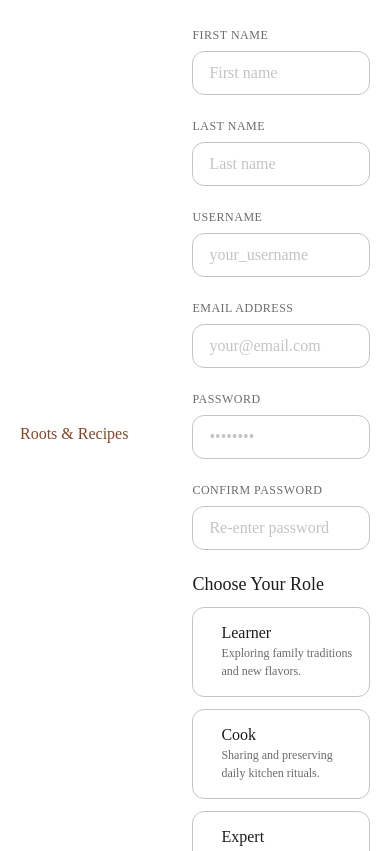
Scenario: RegisterScreen › validation › shows email validation error for invalid email
This screenshot has width=390, height=851.
Type "not-an-email" into the field with placeholder "your@email.com" at (281, 346), box left=192, top=324, right=370, bottom=368
(page scrolled)
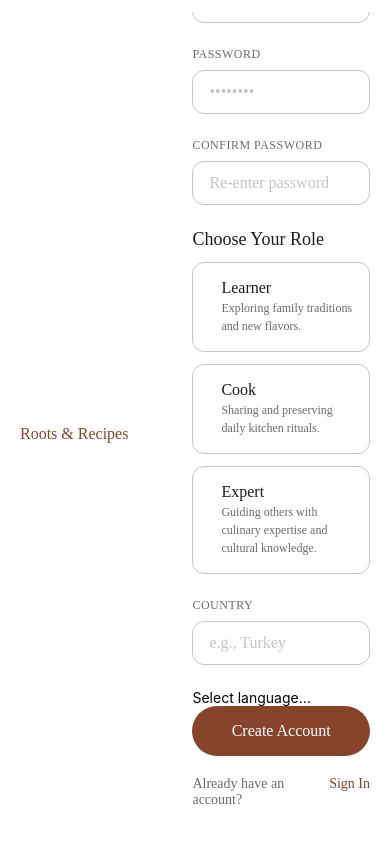
Click the text "Create Account" at (281, 731), box left=232, top=722, right=331, bottom=740
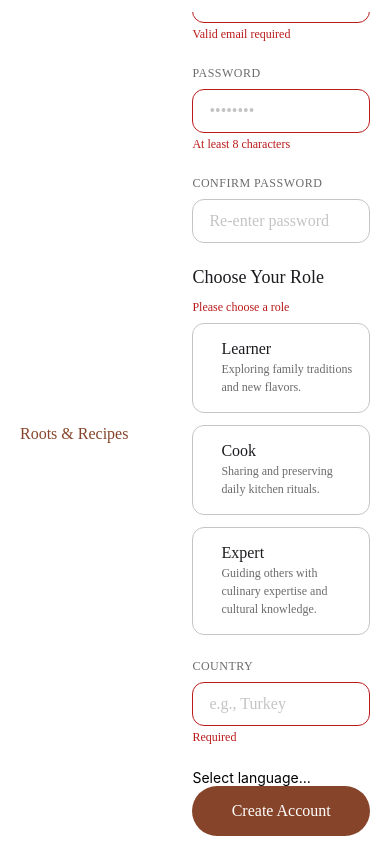
Expected: the text "Valid email required" is shown, left=192, top=27, right=290, bottom=41
